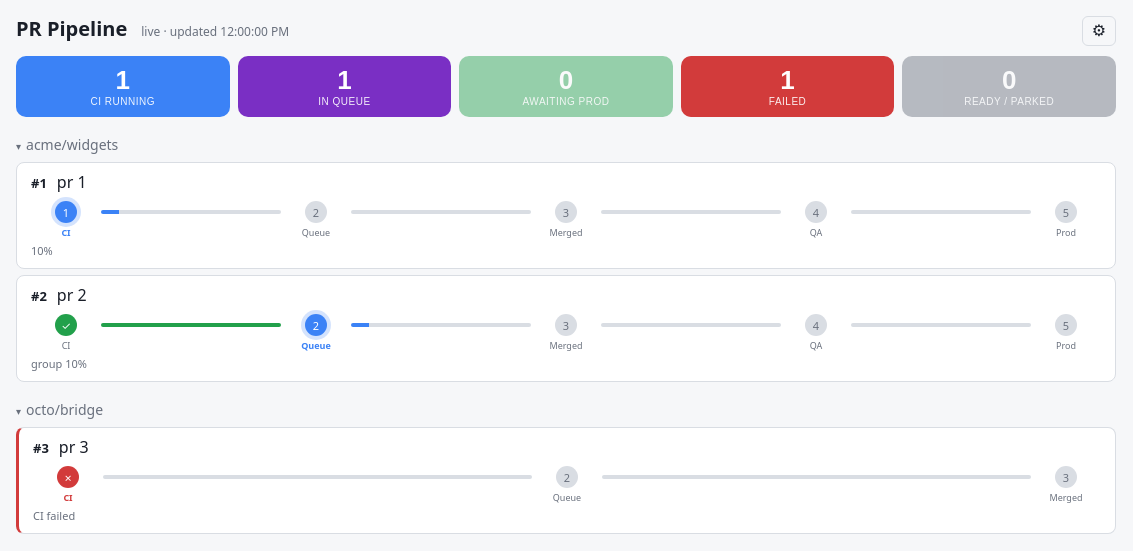
Repo expand/collapse › clicking again expands and shows PR rows
The width and height of the screenshot is (1133, 551).
Click the button "▾ acme/widgets" at (72,145), box [16,135,1116,154]
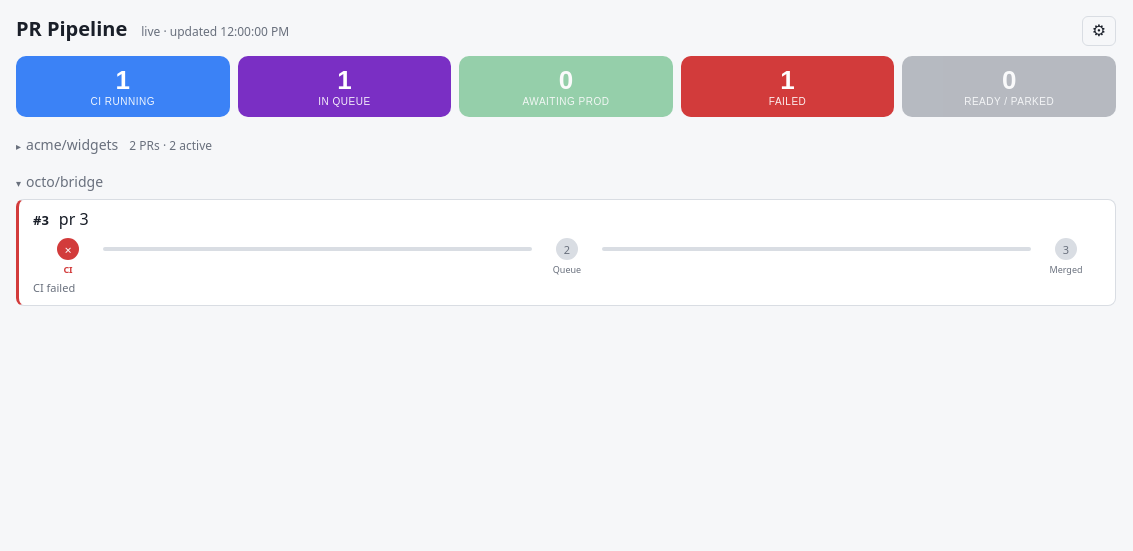
Click the button "▸ acme/widgets 2 PRs · 2 active" at (72,145), box [16,135,1116,154]
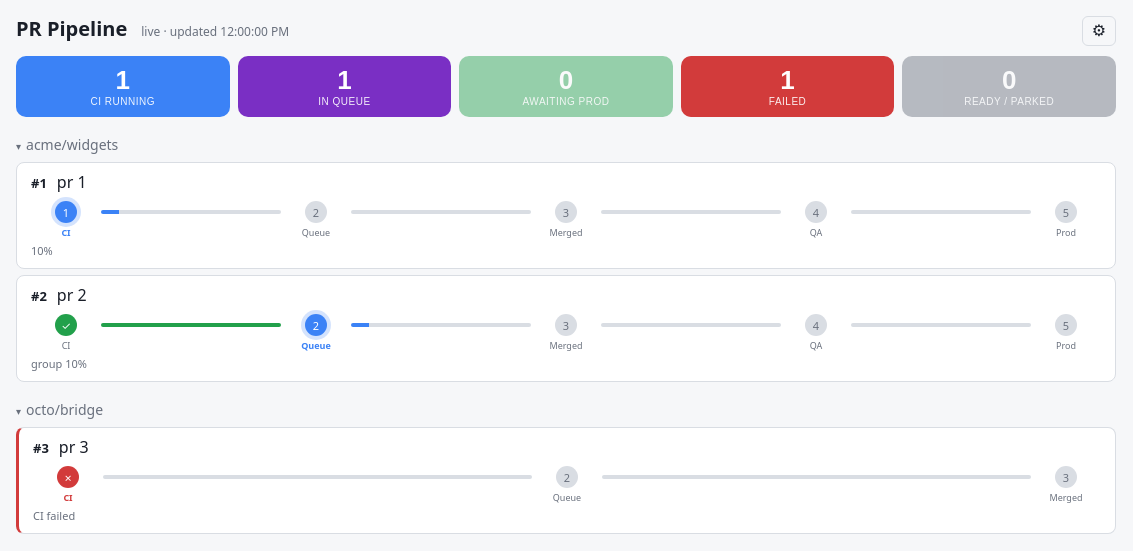
Expected: the text "#1" is shown, [31,174,47,192]
Expected: the text "#2" is shown, [31,287,47,305]
Expected: the button "▾ acme/widgets" is expanded, [16,135,1116,154]
